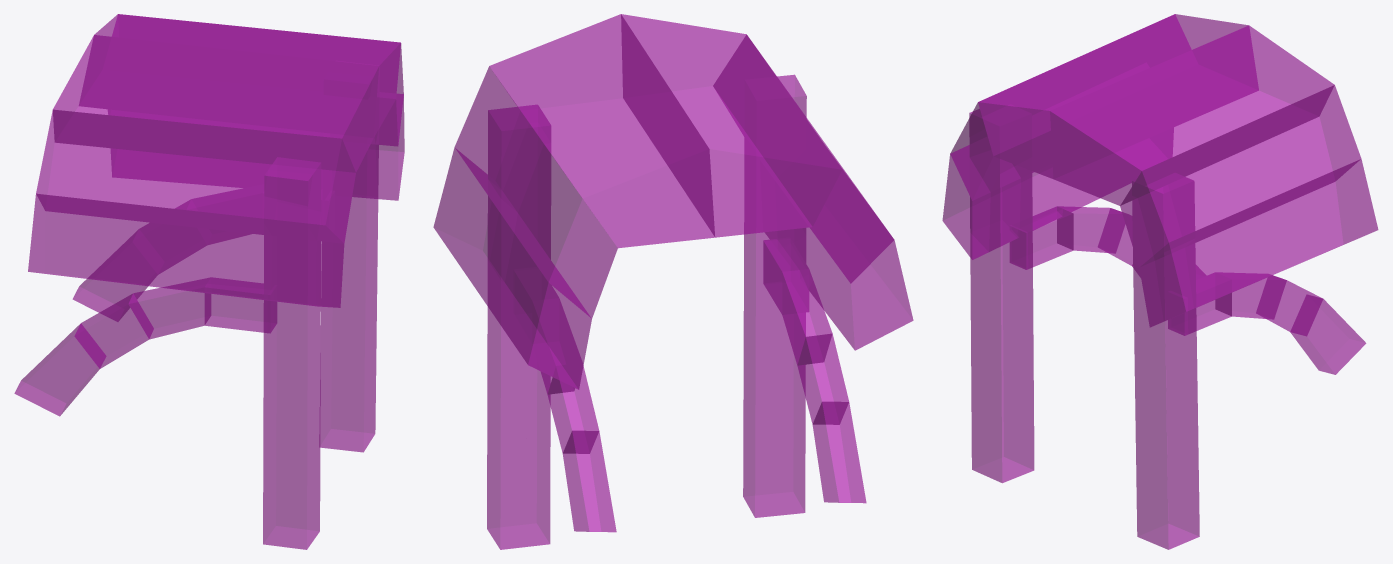
File: SM_Bld_Wall_Door_Curved_01_Awning_01_Collision.fbx
3 renders of one model, left to right at view 1: azimuth 30°, elevation 25°; view 2: azimuth 150°, elevation 25°; view 3: azimuth 270°, elevation 25°, orthographic. The views are drawn at different scales.
Visible parts, largest first — view 1: SM_Bld_Wall_Door_Curved_01_Awning_01_Collision; view 2: SM_Bld_Wall_Door_Curved_01_Awning_01_Collision; view 3: SM_Bld_Wall_Door_Curved_01_Awning_01_Collision.
Part boxes in pixels (bbox=[...]): SM_Bld_Wall_Door_Curved_01_Awning_01_Collision: bbox=[14, 14, 404, 549]; SM_Bld_Wall_Door_Curved_01_Awning_01_Collision: bbox=[433, 14, 913, 549]; SM_Bld_Wall_Door_Curved_01_Awning_01_Collision: bbox=[942, 14, 1378, 549].
Size of the model in its own units: 250 by 254 by 244.
